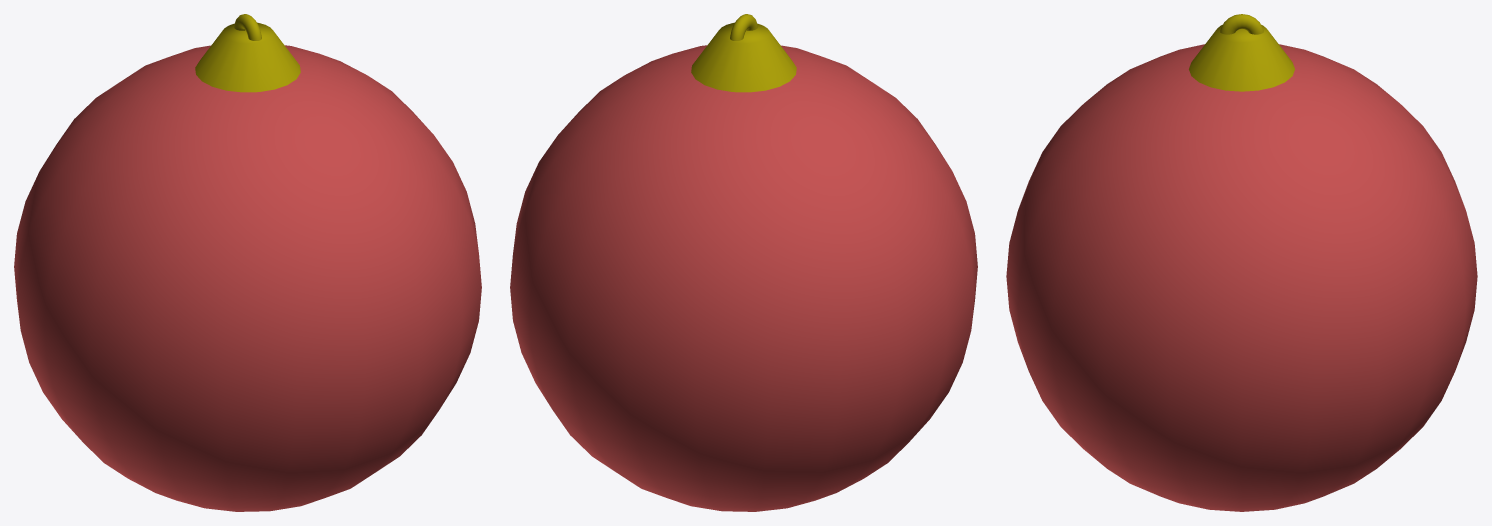
The model's file is Ornament_ball(Red).fbx.
The picture shows the model from 3 angles, left to right: view 1: azimuth 30°, elevation 25°; view 2: azimuth 150°, elevation 25°; view 3: azimuth 270°, elevation 25°; orthographic projection.
Visible parts, largest first — view 1: pSphere1, pCone1; view 2: pSphere1, pCone1; view 3: pSphere1, pCone1, pTorus1.
Boxes of the visible parts, x1,y1,x2,y2 form: pSphere1: (14, 45, 481, 511); pCone1: (195, 22, 300, 92); pSphere1: (510, 45, 977, 511); pCone1: (691, 22, 796, 92); pSphere1: (1006, 44, 1477, 511); pCone1: (1189, 25, 1294, 91); pTorus1: (1220, 14, 1263, 34).
Size of the model in its own units: 2 by 2.23 by 2.
